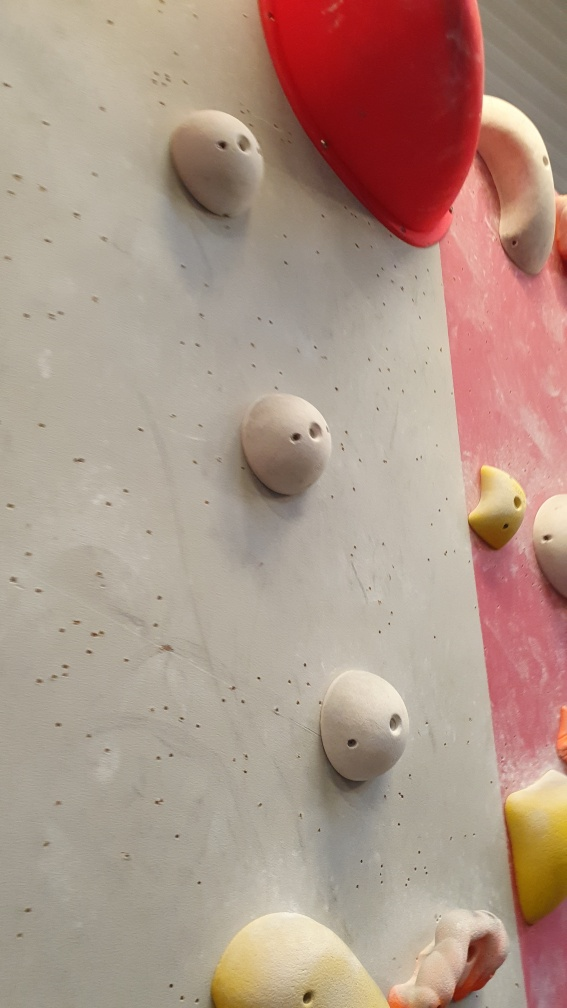Jug: (390, 903, 511, 1005)
Sloper: (170, 109, 270, 224), (315, 665, 408, 788), (240, 391, 337, 503)
